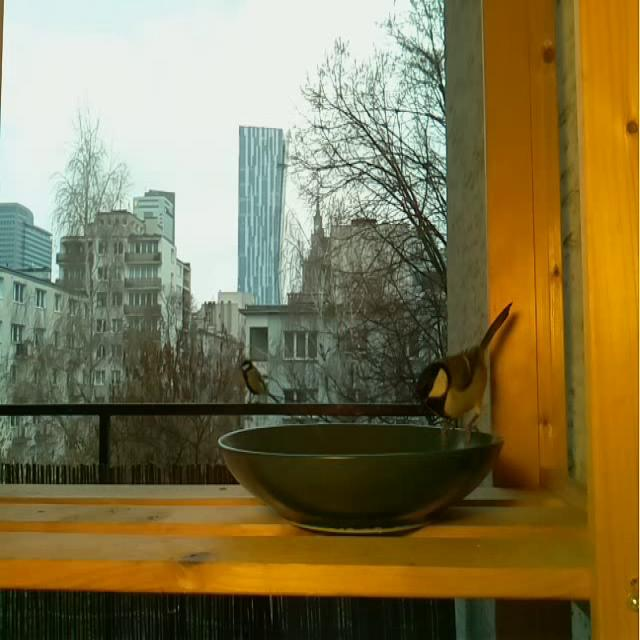Bogatka: (416, 308, 512, 432)
